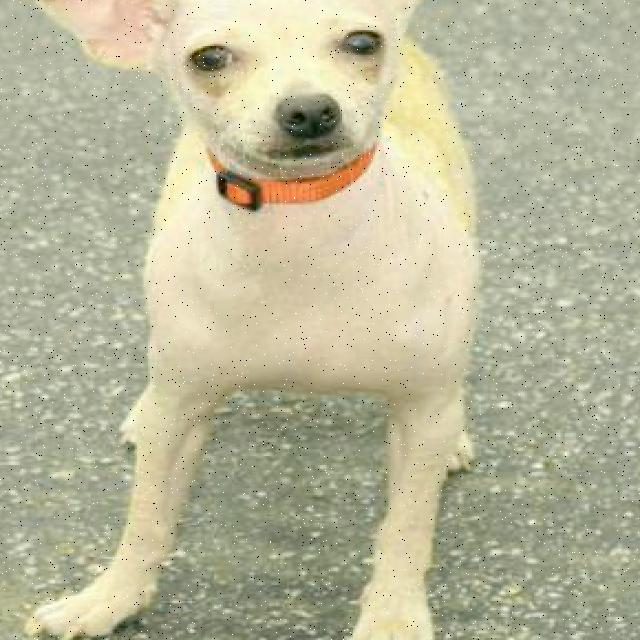Dog: (20, 0, 461, 193)
